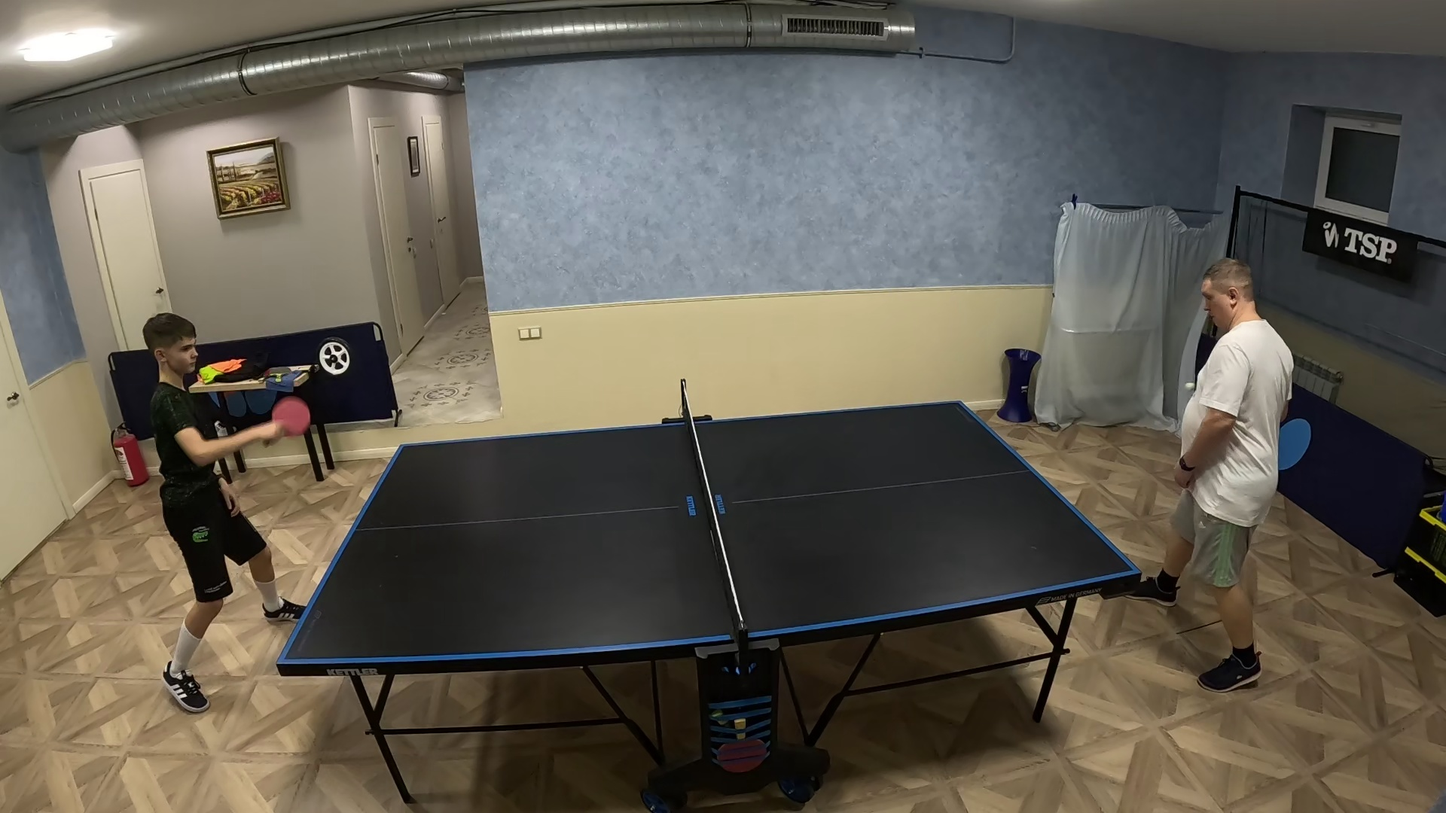Ball: (1184, 381, 1194, 391)
